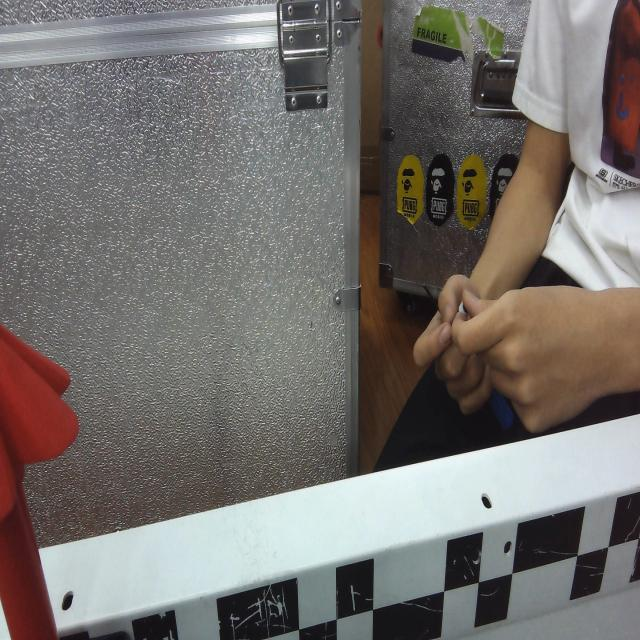zred-Stake-Head: (0, 320, 78, 520)
